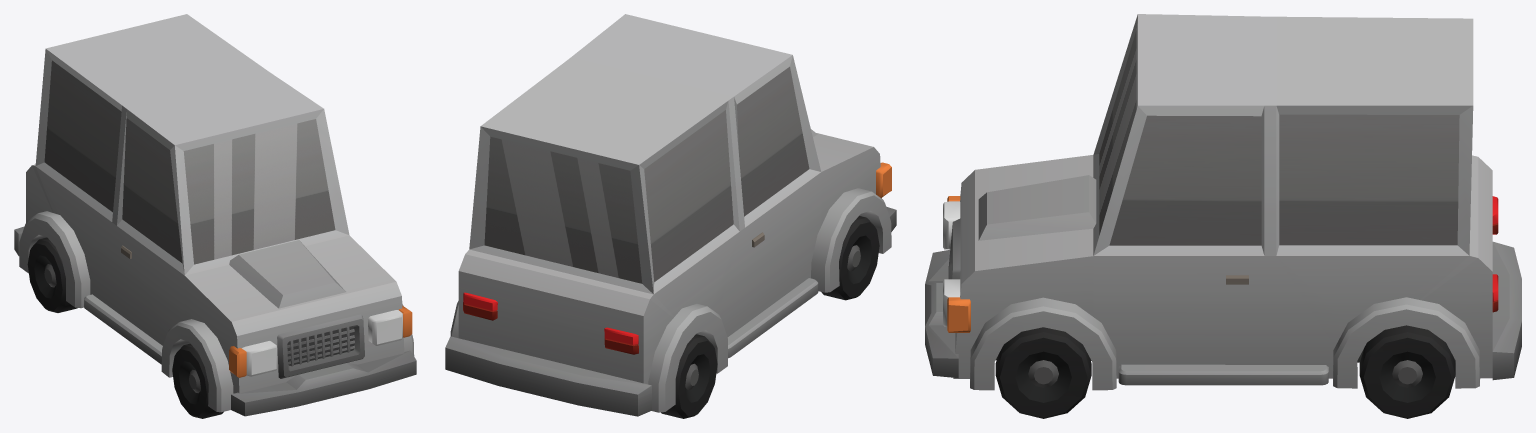
File: Car_5_22.glb
The picture shows the model from 3 angles, left to right: view 1: azimuth 30°, elevation 25°; view 2: azimuth 150°, elevation 25°; view 3: azimuth 270°, elevation 25°; orthographic projection. The views are drawn at different scales.
Parts seen in each view (by area): view 1: Car_5_22, W_br, W_fr; view 2: Car_5_22, W_br, W_fr; view 3: Car_5_22, W_bl, W_fl.
Part boxes in pixels (x1=…): Car_5_22: x1=14, y1=14, x2=416, y2=416; W_br: x1=27, y1=237, x2=77, y2=312; W_fr: x1=172, y1=343, x2=223, y2=418; Car_5_22: x1=445, y1=14, x2=896, y2=416; W_br: x1=661, y1=334, x2=717, y2=418; W_fr: x1=821, y1=216, x2=879, y2=300; Car_5_22: x1=925, y1=14, x2=1521, y2=390; W_bl: x1=1359, y1=325, x2=1455, y2=418; W_fl: x1=995, y1=327, x2=1091, y2=418.
Size of the model in its own units: 1.13 by 1.3 by 2.33.
6 materials, 6 textured.
